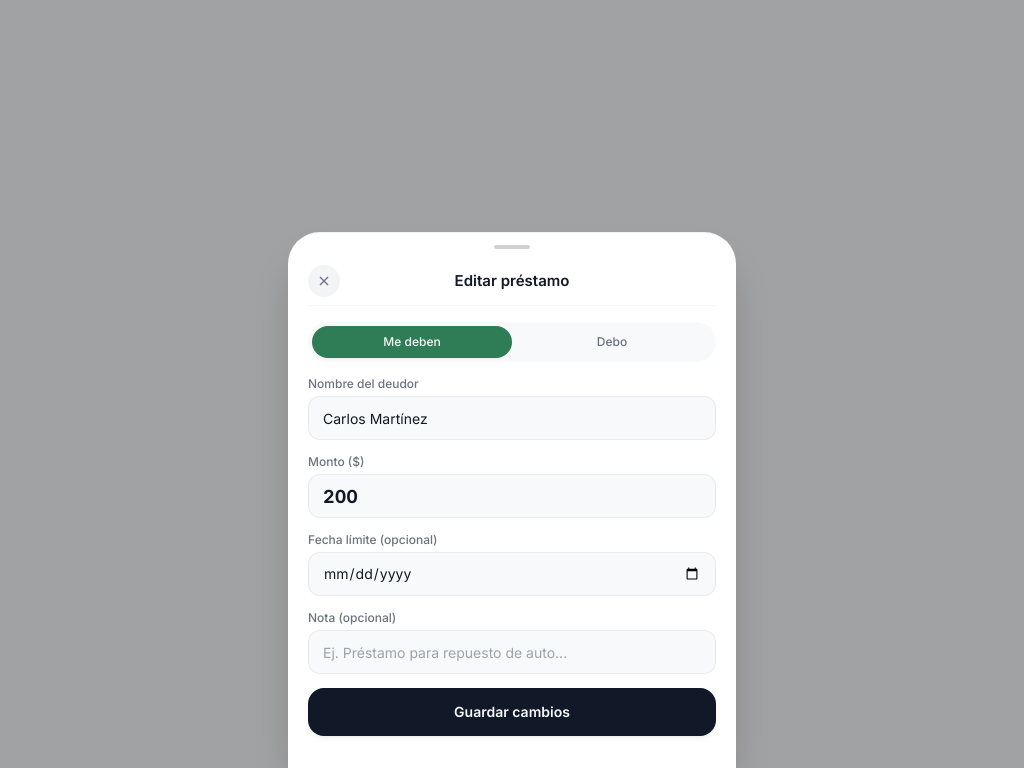
Test: DebtModal › no permite editar el total por debajo de lo abonado
Replace the text in the number field with placeholder "0.00" with "40" at [512, 496], box [308,474,716,518]
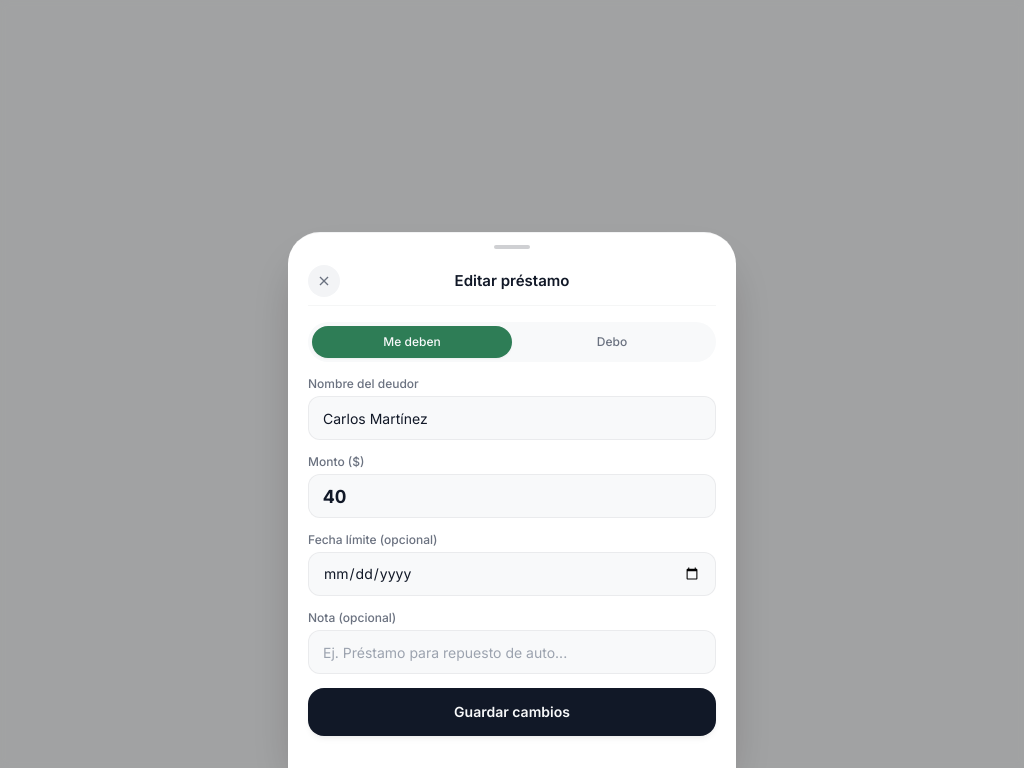
Click the button "Guardar cambios" at [512, 712], box [308,688,716,736]
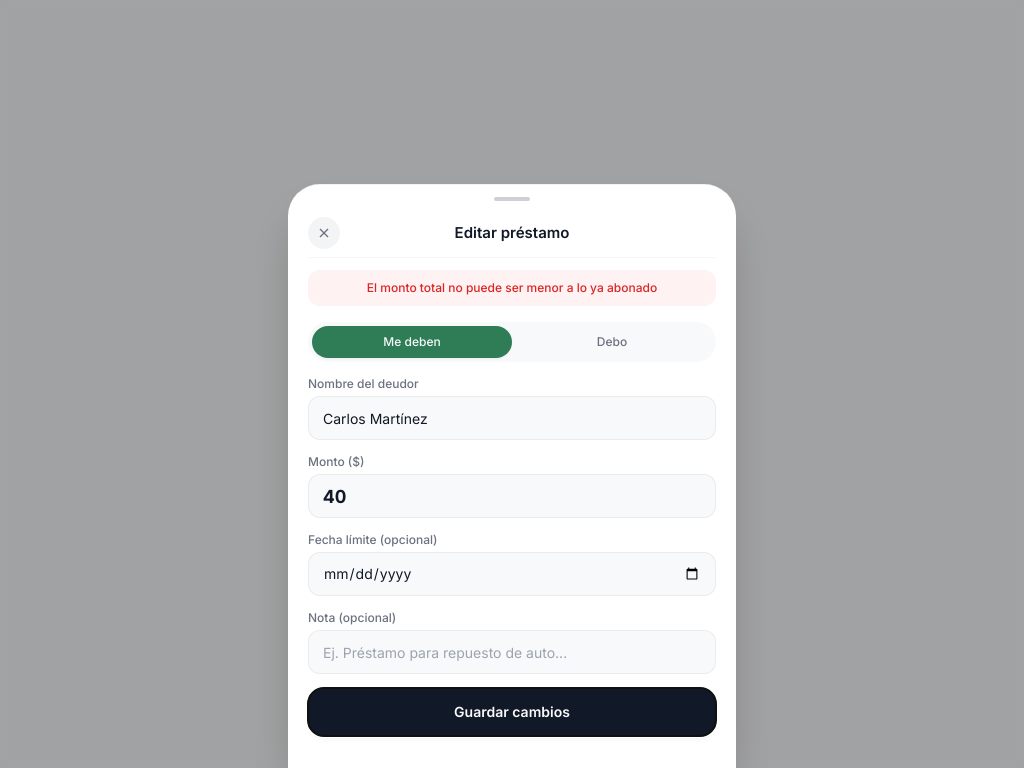
Expected: the text "El monto total no puede ser menor a lo ya abonado" is shown, [308,270,716,306]
